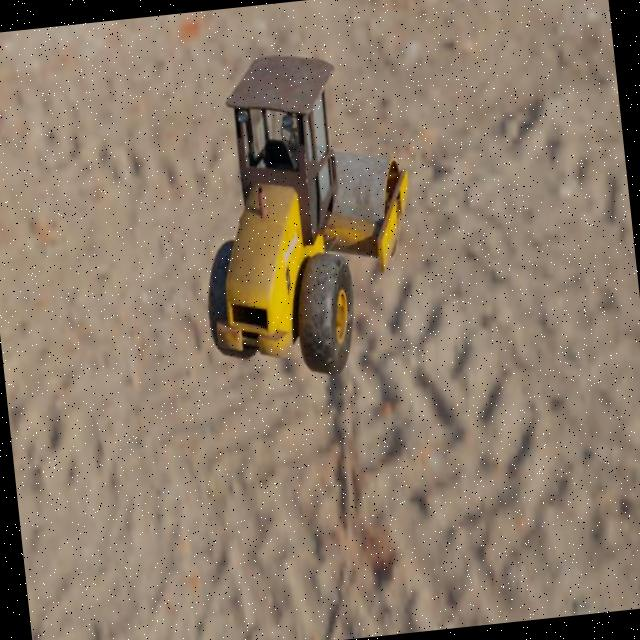Roller: (180, 41, 428, 388)
